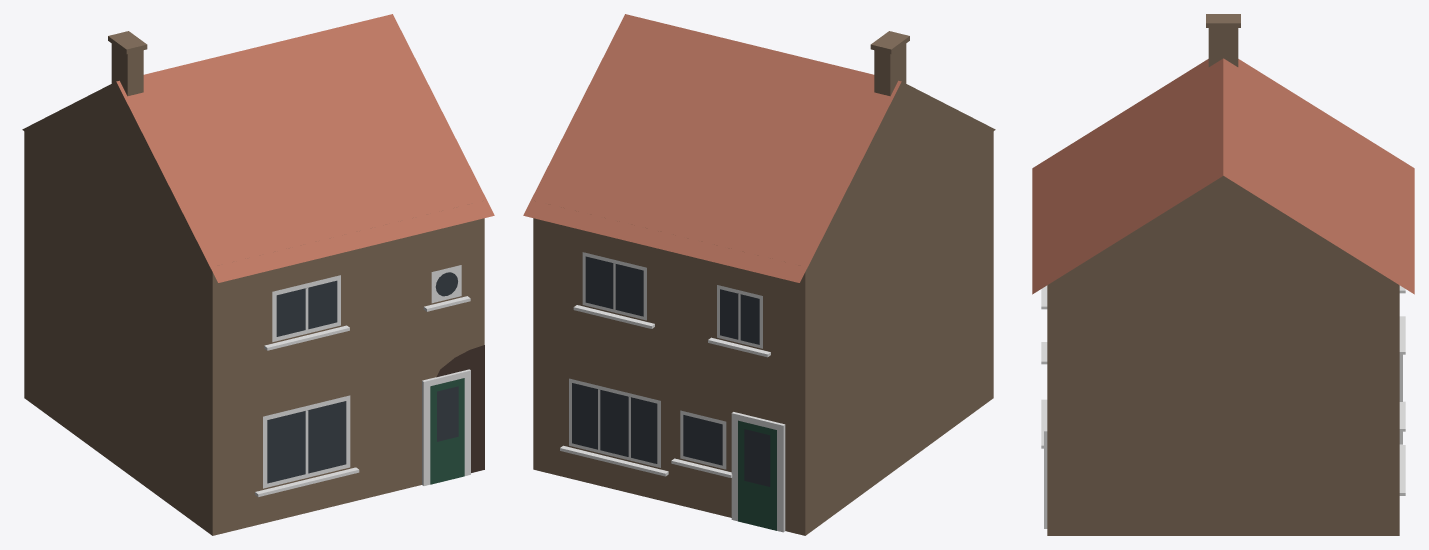
Rendered from ws-wz-porthole__brick__2__gable__long__solid__mirror.glb.
3 renders of one model, left to right at view 1: azimuth 30°, elevation 25°; view 2: azimuth 150°, elevation 25°; view 3: azimuth 270°, elevation 25°, orthographic. The views are drawn at different scales.
Parts seen in each view (by area): view 1: ws-wz-porthole__brick__2__gable__long__solid__mirror; view 2: ws-wz-porthole__brick__2__gable__long__solid__mirror; view 3: ws-wz-porthole__brick__2__gable__long__solid__mirror.
Boxes of the visible parts, x1,y1,x2,y2 form: ws-wz-porthole__brick__2__gable__long__solid__mirror: [22, 14, 494, 535]; ws-wz-porthole__brick__2__gable__long__solid__mirror: [523, 14, 995, 535]; ws-wz-porthole__brick__2__gable__long__solid__mirror: [1032, 14, 1414, 535].
Bounding box in the file's own units: 6.03 × 8.84 × 7.7.
